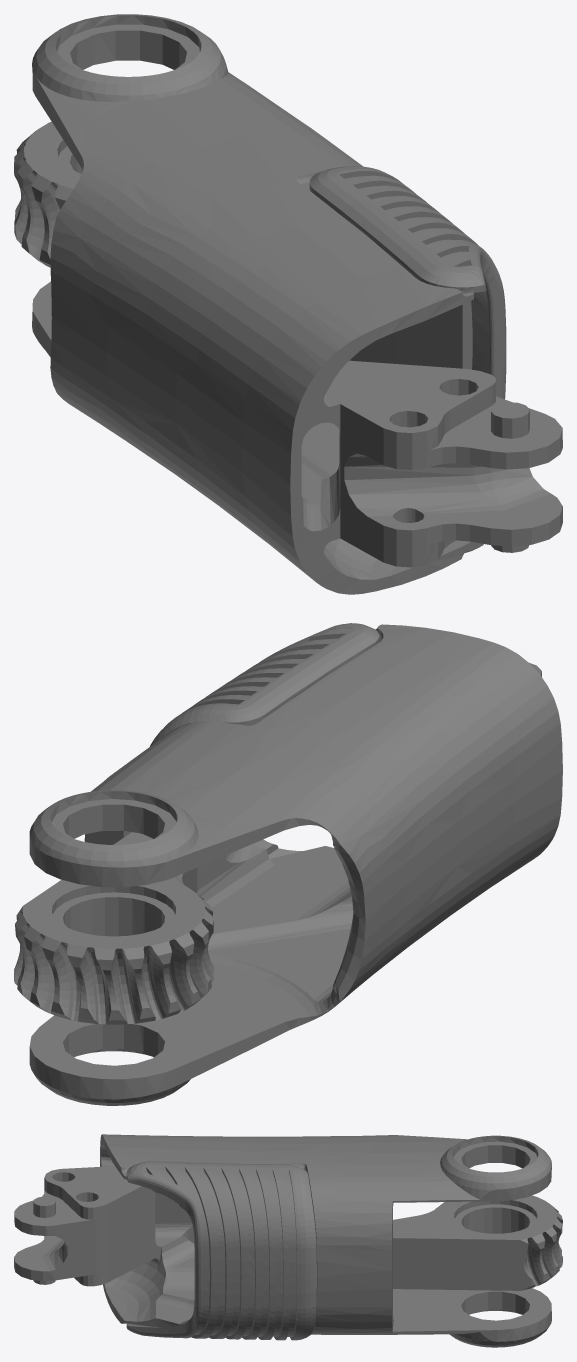
File: lh_pinky_proximal_vis.obj
3 views of the same model, one above another, from view 1: azimuth 30°, elevation 25°; view 2: azimuth 150°, elevation 25°; view 3: azimuth 270°, elevation 25° (orthographic). The views are drawn at different scales.
Visible parts, largest first — view 1: lh_pinky_proximal; view 2: lh_pinky_proximal; view 3: lh_pinky_proximal.
Part boxes in pixels (x1,y1,x2,y2): lh_pinky_proximal: (14,14,562,594); lh_pinky_proximal: (14,623,562,1105); lh_pinky_proximal: (14,1134,562,1347).
Size of the model in its own units: 0.0186 by 0.0168 by 0.0479.
Materials: 1 (1 with a texture image).
